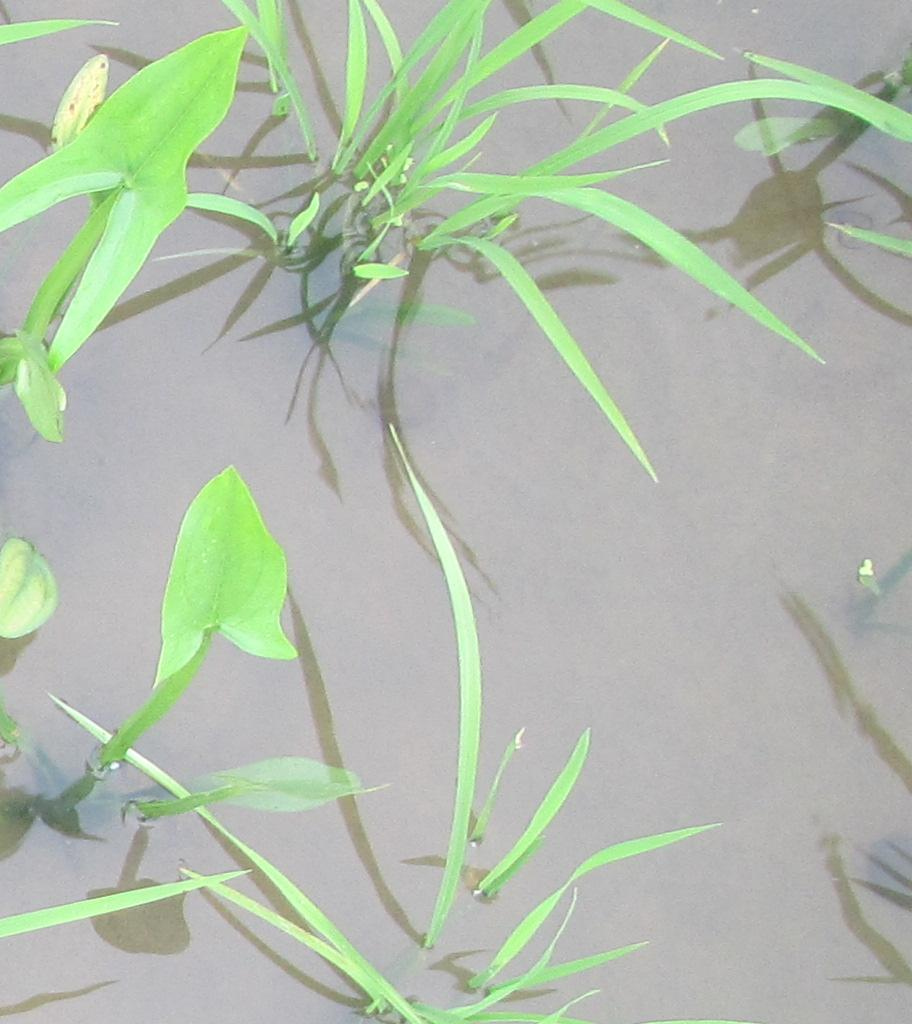Weed: (10, 30, 250, 232), (150, 460, 308, 689), (177, 753, 369, 841)
